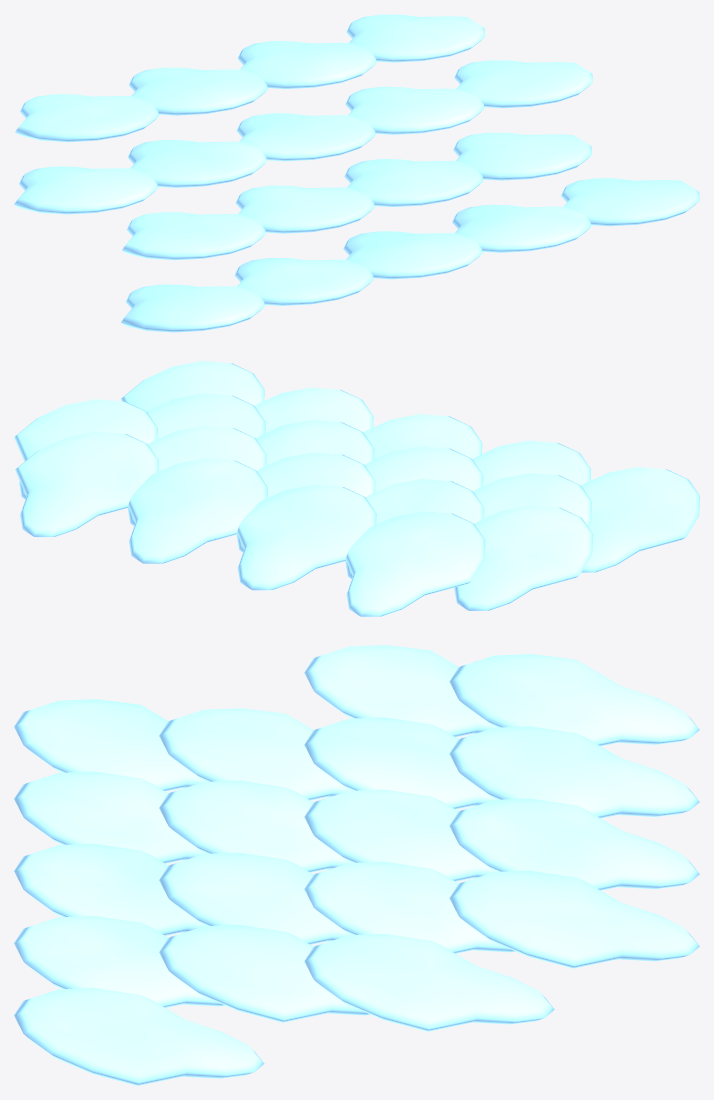
Rendered from scale_dragon.glb.
3 views of the same model, one above another, from view 1: azimuth 30°, elevation 25°; view 2: azimuth 150°, elevation 25°; view 3: azimuth 270°, elevation 25° (orthographic). The views are drawn at different scales.
Visible parts, largest first — view 1: scale_dragon; view 2: scale_dragon; view 3: scale_dragon.
Part boxes in pixels (x1,y1,x2,y2): scale_dragon: (14,14,699,332); scale_dragon: (14,361,699,616); scale_dragon: (14,645,699,1085).
Size of the model in its own units: 0.7841 by 0.1349 by 0.6058.
